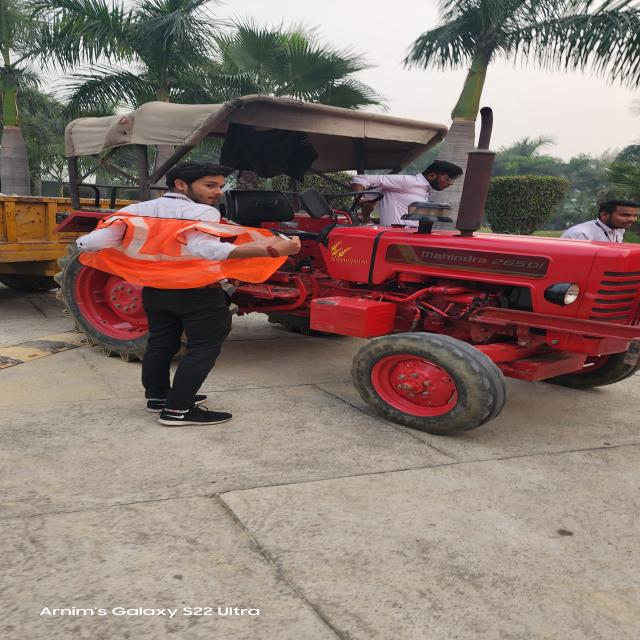unsafe: (79, 162, 273, 428), (348, 159, 469, 236)
